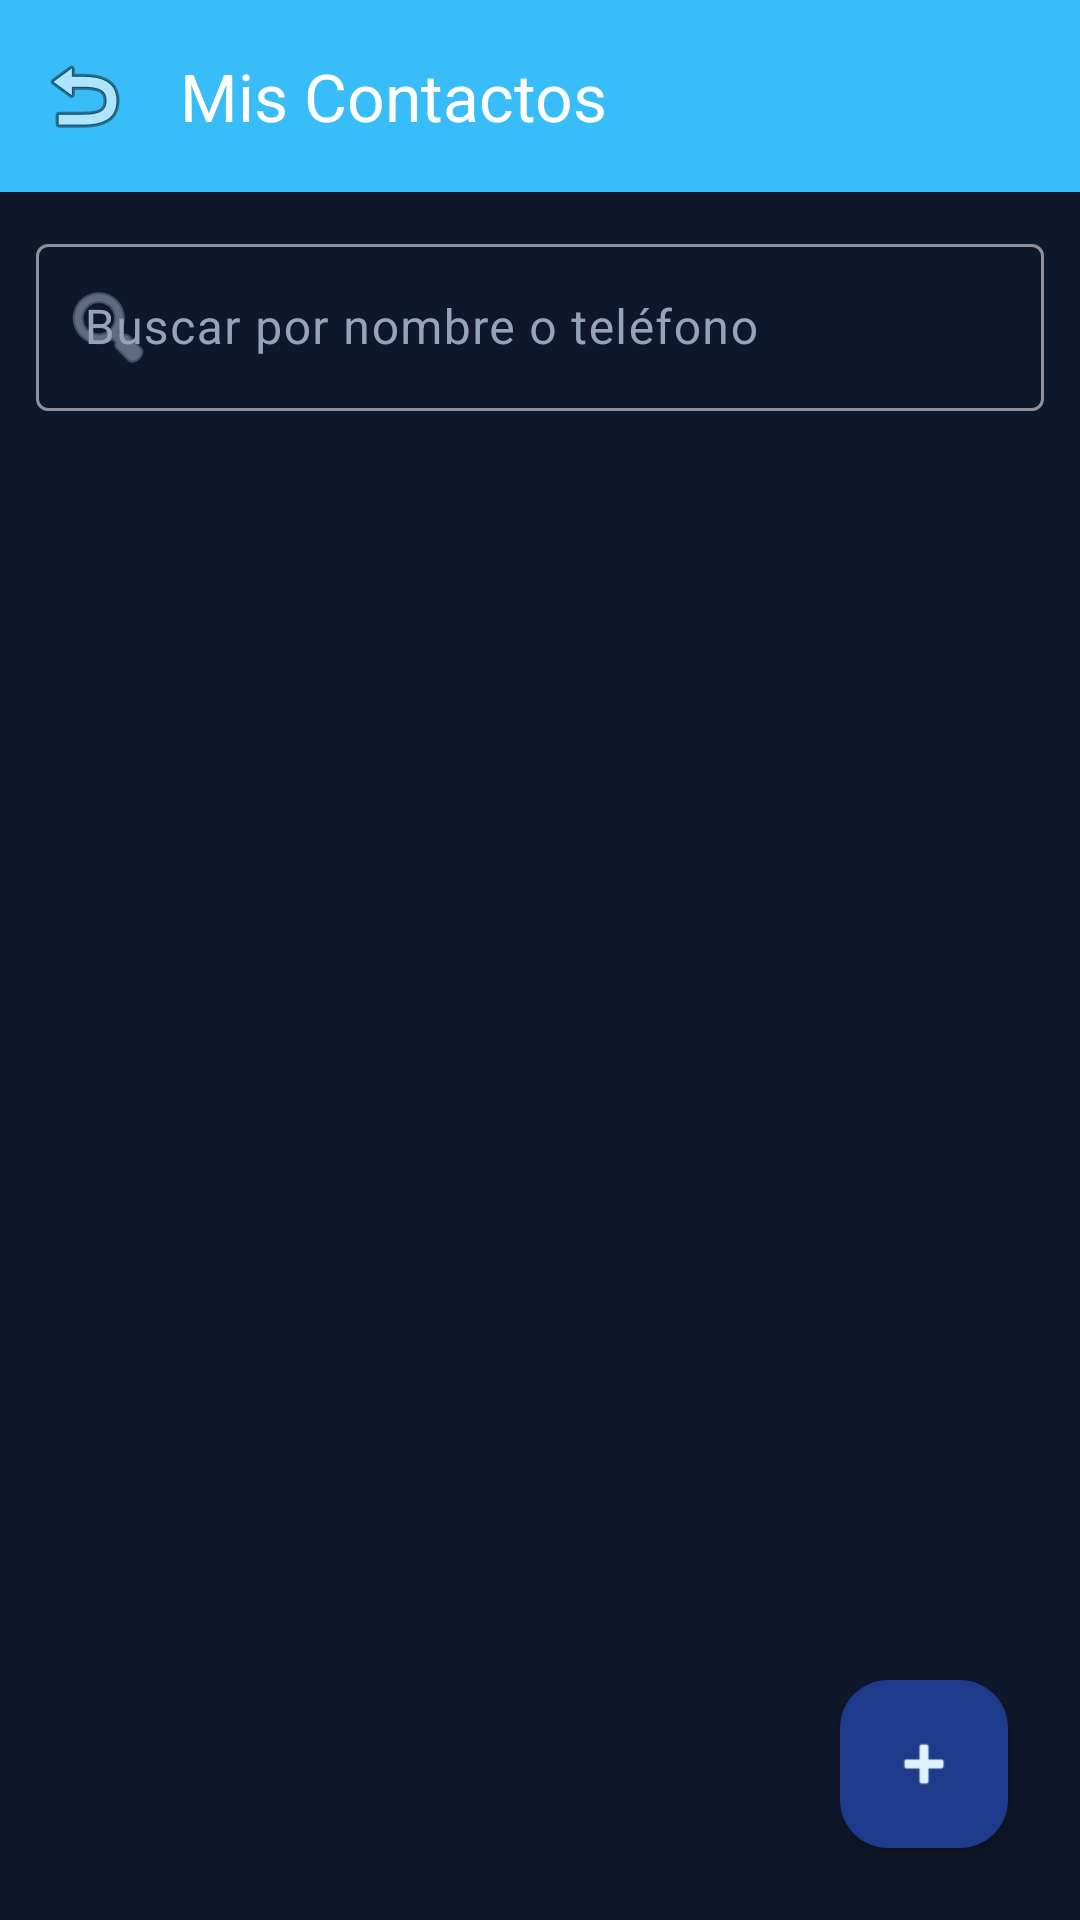

Icons on this 1080px×1920px Android screen, each with the point to tap as (x=x, y=y):
Agregar Contacto: (x=924, y=1764)
